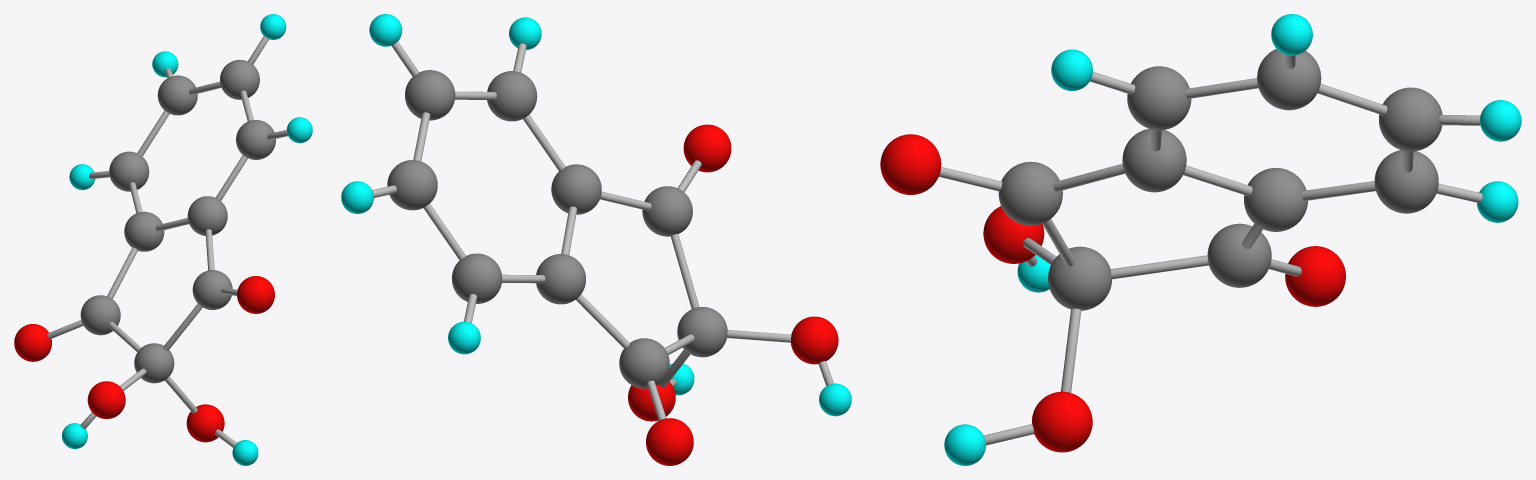
Rendered from ninhydrin.glb.
The picture shows the model from 3 angles, left to right: view 1: azimuth 30°, elevation 25°; view 2: azimuth 150°, elevation 25°; view 3: azimuth 270°, elevation 25°; orthographic projection. The views are drawn at different scales.
Parts seen in each view (by area): view 1: CMAtom_16, CMAtom_19, CMAtom_5, CMAtom_15, CMAtom_4, CMAtom_11, CMAtom_12, CMAtom_18, CMAtom_17, CMAtom_28, CMAtom_29, CMAtom_26 (+11 smaller); view 2: CMAtom_12, CMAtom_19, CMAtom_16, CMAtom_4, CMAtom_17, CMAtom_5, CMAtom_15, CMAtom_11, CMAtom_18, CMAtom_26, CMAtom_28, CMAtom_29 (+11 smaller); view 3: CMAtom_4, CMAtom_17, CMAtom_11, CMAtom_15, CMAtom_18, CMAtom_19, CMAtom_5, CMAtom_16, CMAtom_12, CMAtom_29, CMAtom_27, CMAtom_26 (+15 smaller).
Boxes of the visible parts, bbox=[...] form: CMAtom_16: bbox=[187, 196, 227, 235]; CMAtom_19: bbox=[80, 295, 120, 335]; CMAtom_5: bbox=[109, 151, 149, 191]; CMAtom_15: bbox=[124, 211, 164, 251]; CMAtom_4: bbox=[157, 75, 197, 115]; CMAtom_11: bbox=[236, 120, 275, 159]; CMAtom_12: bbox=[220, 59, 259, 99]; CMAtom_18: bbox=[134, 343, 174, 383]; CMAtom_17: bbox=[192, 270, 232, 309]; CMAtom_28: bbox=[87, 381, 125, 418]; CMAtom_29: bbox=[237, 276, 274, 313]; CMAtom_26: bbox=[14, 324, 51, 361]; CMAtom_12: bbox=[405, 70, 455, 120]; CMAtom_19: bbox=[619, 338, 669, 388]; CMAtom_16: bbox=[551, 164, 601, 214]; CMAtom_4: bbox=[387, 160, 437, 210]; CMAtom_17: bbox=[642, 186, 692, 236]; CMAtom_5: bbox=[452, 253, 502, 303]; CMAtom_15: bbox=[536, 254, 585, 304]; CMAtom_11: bbox=[487, 71, 537, 121]; CMAtom_18: bbox=[677, 307, 727, 357]; CMAtom_26: bbox=[646, 418, 693, 465]; CMAtom_28: bbox=[790, 316, 838, 364]; CMAtom_29: bbox=[683, 124, 731, 172]; CMAtom_4: bbox=[1379, 87, 1442, 151]; CMAtom_17: bbox=[998, 161, 1062, 225]; CMAtom_11: bbox=[1127, 66, 1191, 130]; CMAtom_15: bbox=[1244, 168, 1307, 231]; CMAtom_18: bbox=[1048, 246, 1111, 310]; CMAtom_19: bbox=[1207, 223, 1271, 287]; CMAtom_5: bbox=[1374, 150, 1438, 213]; CMAtom_16: bbox=[1122, 129, 1186, 192]; CMAtom_12: bbox=[1257, 49, 1321, 110]; CMAtom_29: bbox=[880, 134, 941, 194]; CMAtom_27: bbox=[1032, 391, 1092, 452]; CMAtom_26: bbox=[1285, 246, 1345, 306].
Size of the model in its own units: 5.33 by 5.82 by 6.16.
